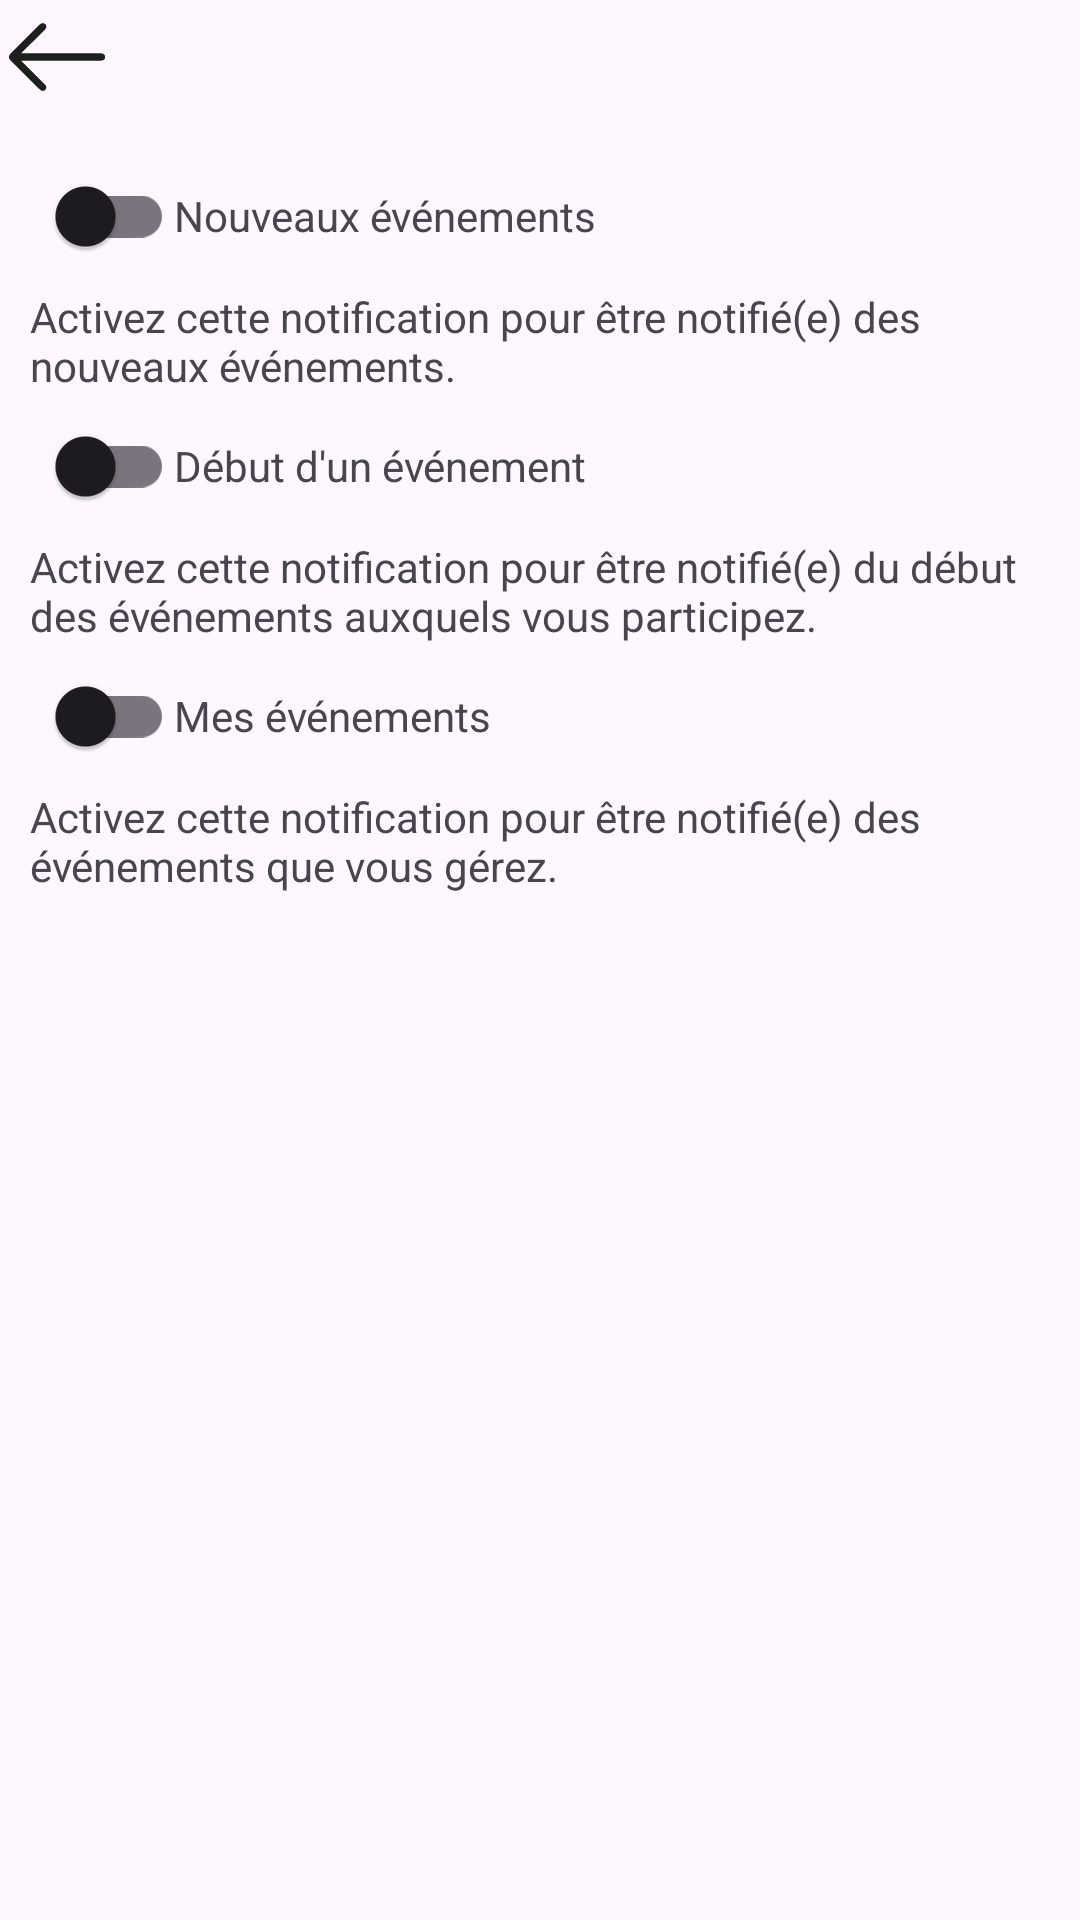

Icons on this 1080px×1920px Android screen, each with its box as (x1, y1, x2, y2):
Back: (9, 23, 105, 91)
